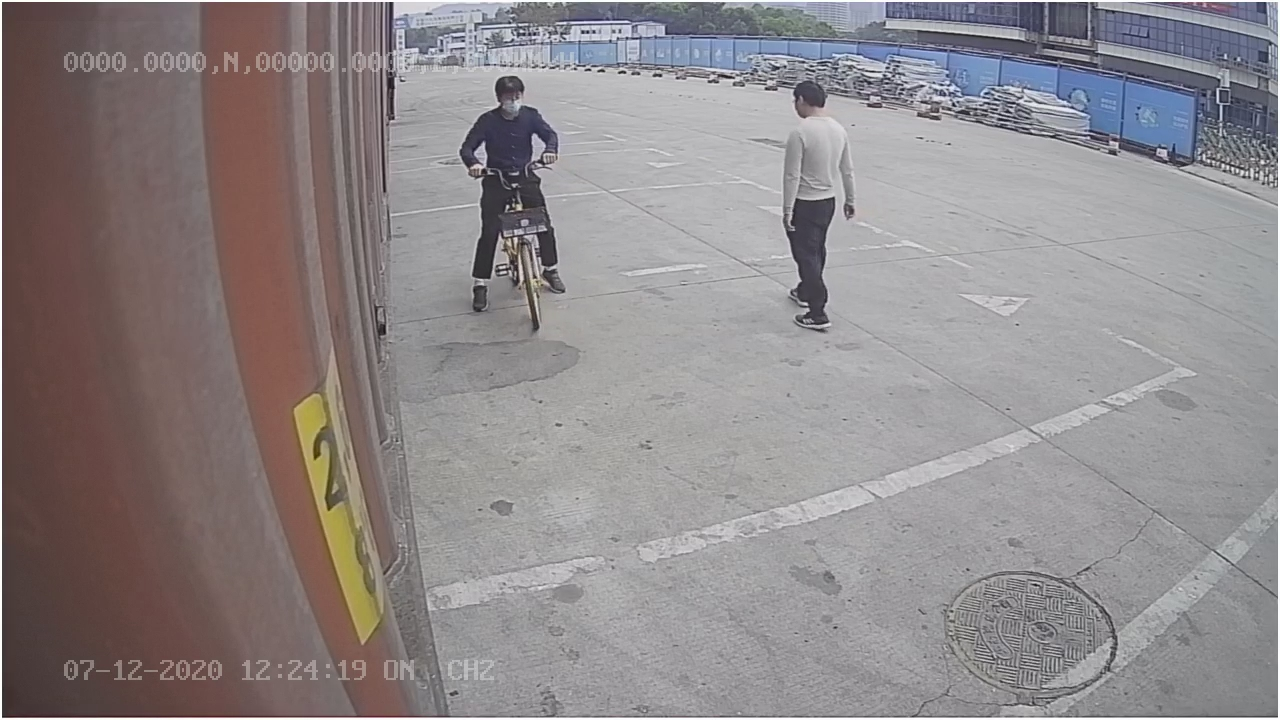person: (775, 76, 859, 334)
